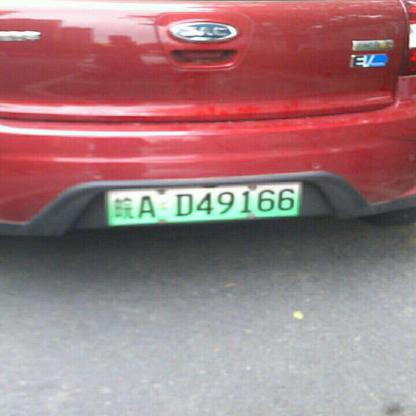lp: (108, 183, 299, 225)
